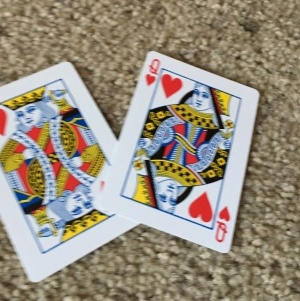card: (101, 50, 261, 251)
